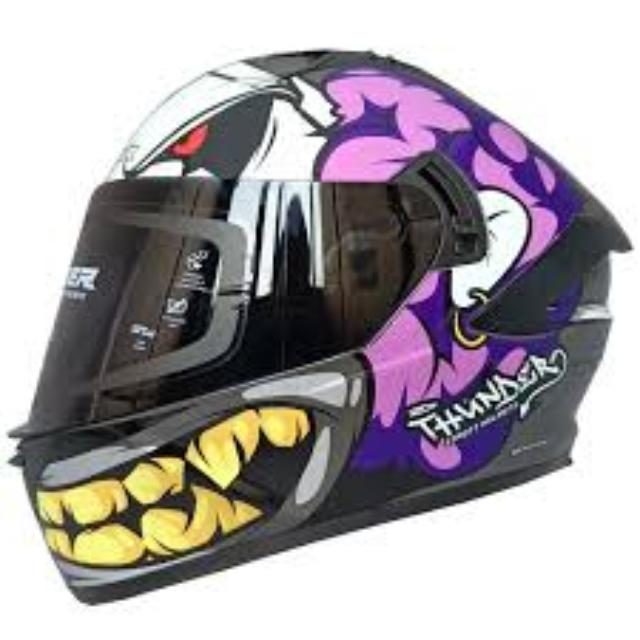motorcycle-helmets: (9, 51, 629, 600)
